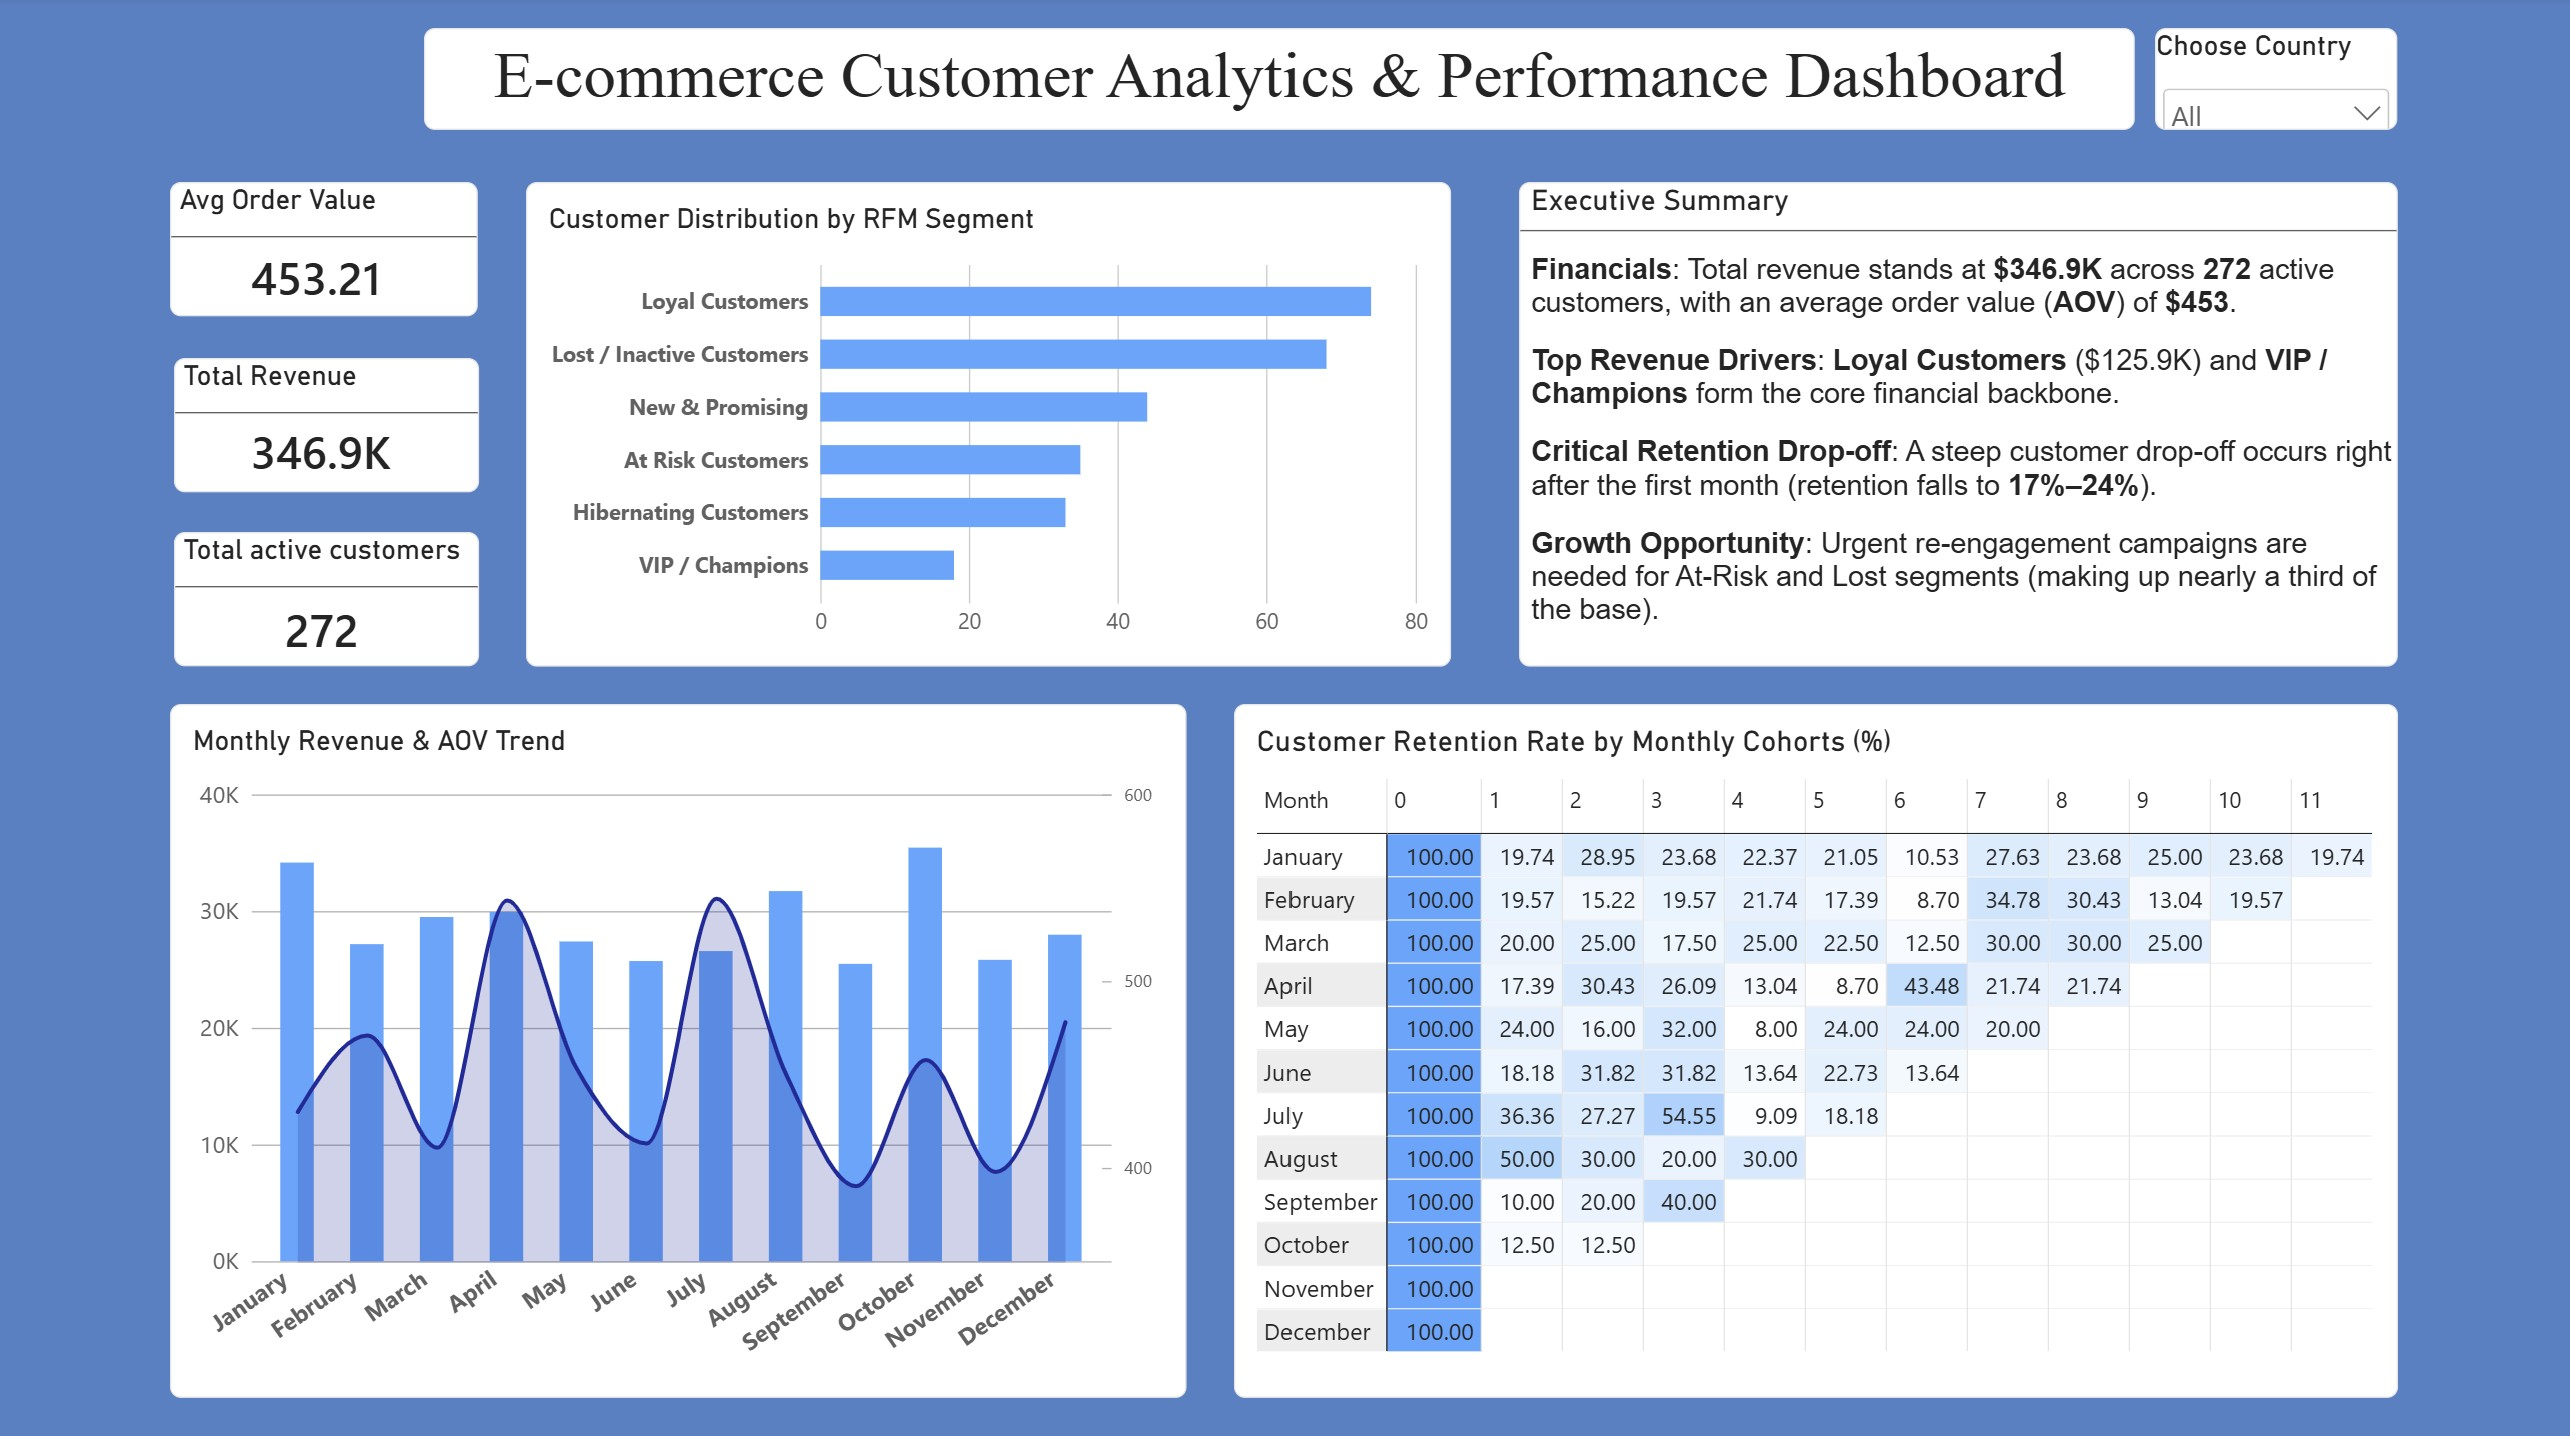

What the dashboard file says about the page in this screenshot:
{"tool":"powerbi","page":{"name":"Page 1","canvas":[1920,1080],"ordinal":0},"visuals":[{"type":"cardVisual","title":" Avg Order Value","fields":{"Data":["Avg(sales_aov.avg_order_value)"]},"box":[133.4,135.8,228.1,99.7],"z":0},{"type":"cardVisual","title":"Total Revenue","fields":{"Data":["Sum(sales_aov.total_revenue)"]},"box":[135.6,266.4,225.9,99.7],"z":1000},{"type":"cardVisual","title":"Total active customers","fields":{"Data":["Sum(rfm_segments.total_customers)"]},"box":[135.6,394.9,225.9,99.7],"z":2000},{"type":"lineStackedColumnComboChart","title":"Monthly Revenue & AOV Trend","fields":{"Category":["sales_aov.order_month.Variation.Date Hierarchy.Month"],"Y":["Sum(sales_aov.total_revenue)"],"Y2":["Avg(sales_aov.avg_order_value)"]},"box":[133.4,523.3,752.9,513.8],"z":3000},{"type":"barChart","title":"Customer Distribution by RFM Segment","fields":{"Category":["rfm_segments.segment"],"Y":["Sum(rfm_segments.total_customers)"]},"box":[396.9,135.8,684.3,358.8],"z":4000},{"type":"pivotTable","title":"Customer Retention Rate by Monthly Cohorts (%)","fields":{"Columns":["cohort_retention.month_number"],"Rows":["cohort_retention.cohort_month.Variation.Date Hierarchy.Month"],"Values":["Avg(cohort_retention.retention_rate_pct)"]},"box":[921.8,523.3,861.5,513.8],"z":5000},{"type":"textbox","box":[321.1,22.1,1266.7,75.3],"z":6000},{"type":"slicer","title":"Choose Country","fields":{"Values":["sales_aov.country"]},"box":[1667.5,22.1,179.4,90.8],"z":7000},{"type":"textbox","title":"Executive Summary","box":[1132.1,135.8,651.1,358.8],"z":8000}]}

Visuals, with their boxes in screenshot pixels (x1, y1, x2, y2), scaled from the page's 1920x1080 canvas onto the 2570x1436 screenshot:
" Avg Order Value" cardVisual: (179, 181, 484, 313)
"Total Revenue" cardVisual: (182, 354, 484, 487)
"Total active customers" cardVisual: (182, 525, 484, 658)
"Monthly Revenue & AOV Trend" lineStackedColumnComboChart: (179, 696, 1186, 1379)
"Customer Distribution by RFM Segment" barChart: (531, 181, 1447, 658)
"Customer Retention Rate by Monthly Cohorts (%)" pivotTable: (1234, 696, 2387, 1379)
textbox: (430, 29, 2125, 130)
"Choose Country" slicer: (2232, 29, 2472, 150)
"Executive Summary" textbox: (1515, 181, 2387, 658)
